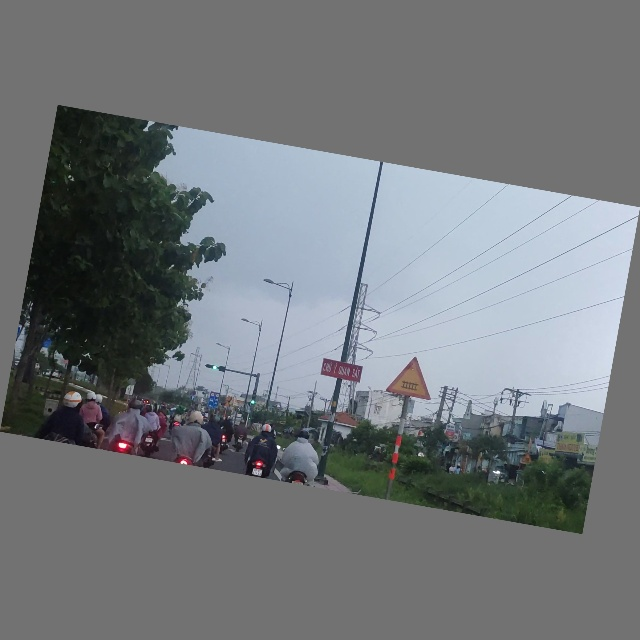W.210: (384, 353, 438, 403)
